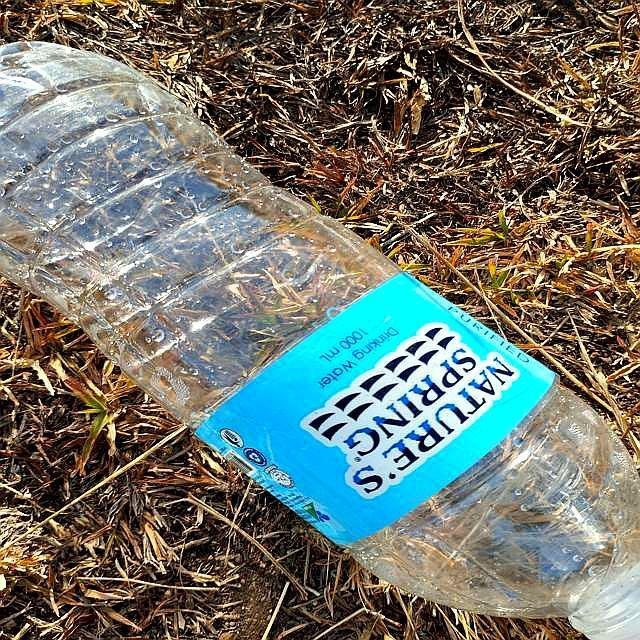Non-biodegradable: (3, 15, 640, 640)
